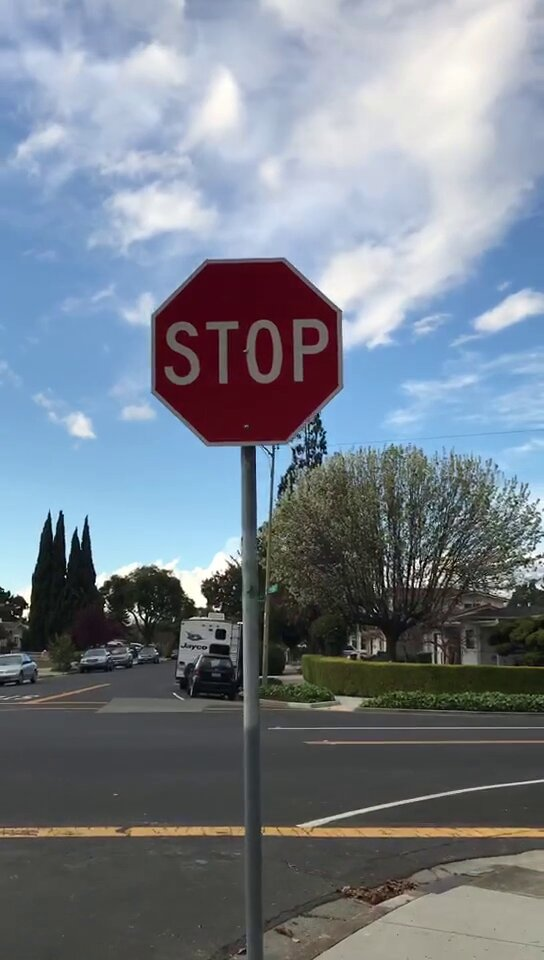stop_sign: (155, 261, 344, 443)
